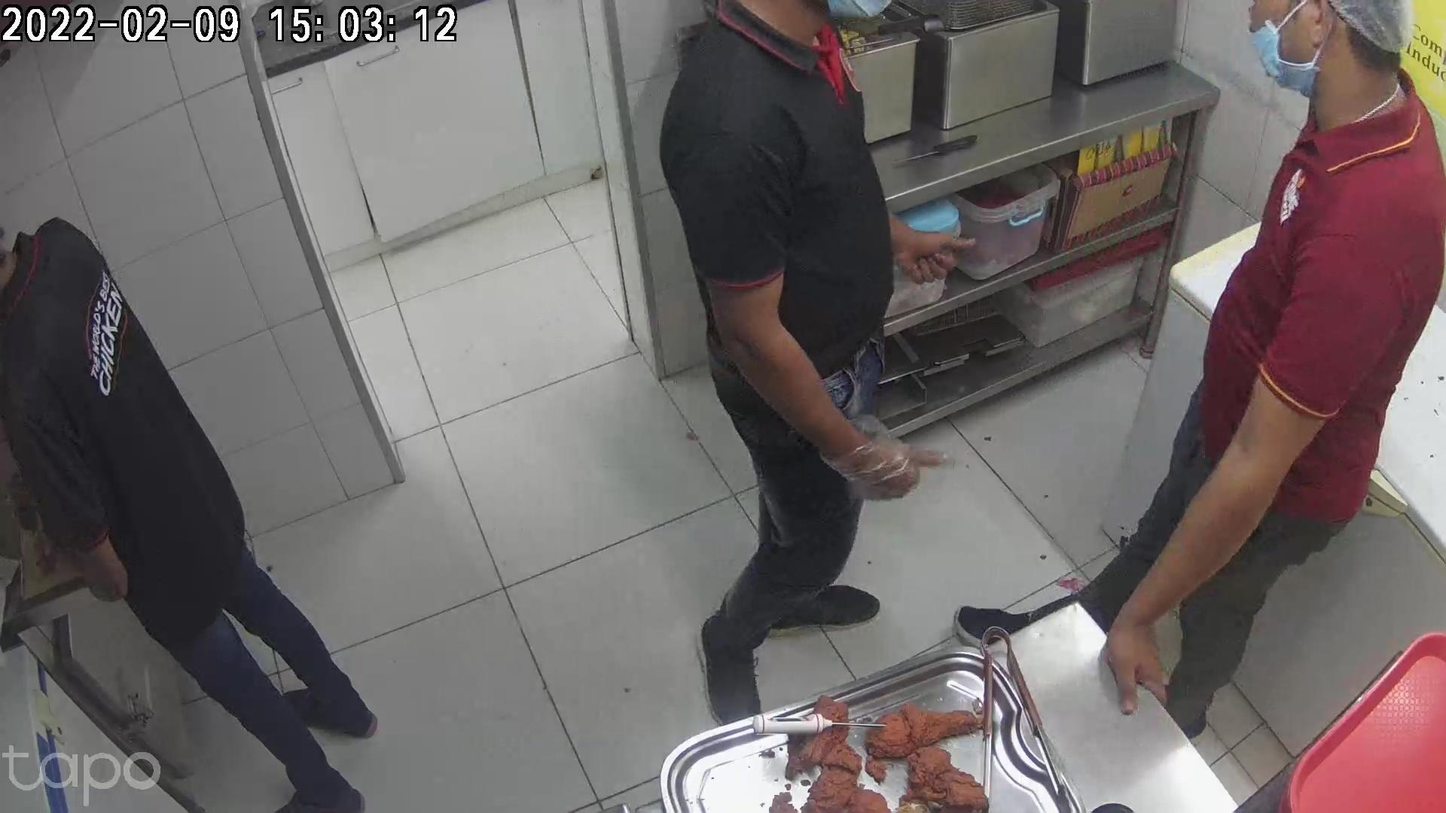gloves: (355, 373, 411, 487)
